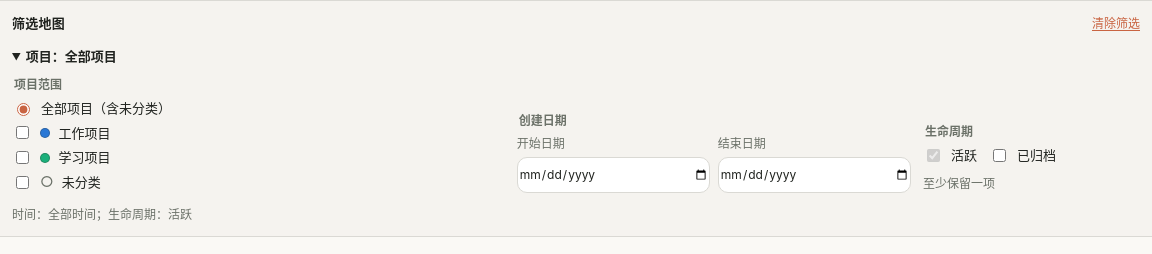
Test: ResearchMapFilters › 生命周期不能关闭最后一项；先选另一项后可完成切换
Expected: the checkbox labelled "活跃" is disabled, [927, 149, 940, 162]
Expected: the text "至少保留一项" is shown, [923, 176, 995, 191]
Click the checkbox labelled "已归档" at (1000, 155), box [993, 149, 1006, 162]
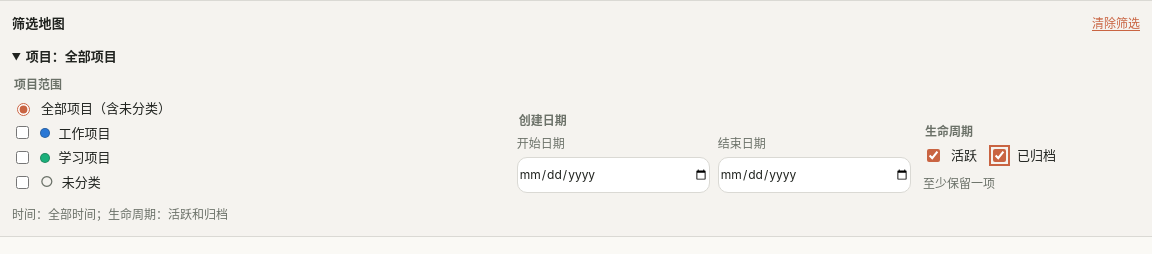
Now the checkbox labelled "已归档" is checked, box [993, 149, 1006, 162]
Now the checkbox labelled "活跃" is enabled
Click the checkbox labelled "活跃" at (934, 155), box [927, 149, 940, 162]
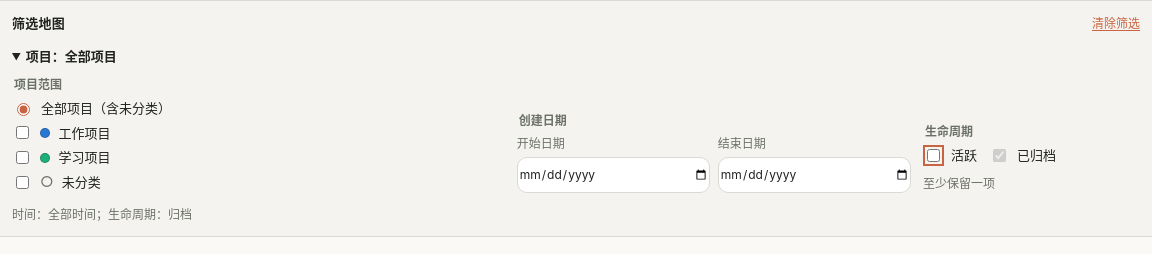
Now the checkbox labelled "活跃" is not checked, box [927, 149, 940, 162]
Now the checkbox labelled "已归档" is disabled, box [993, 149, 1006, 162]
